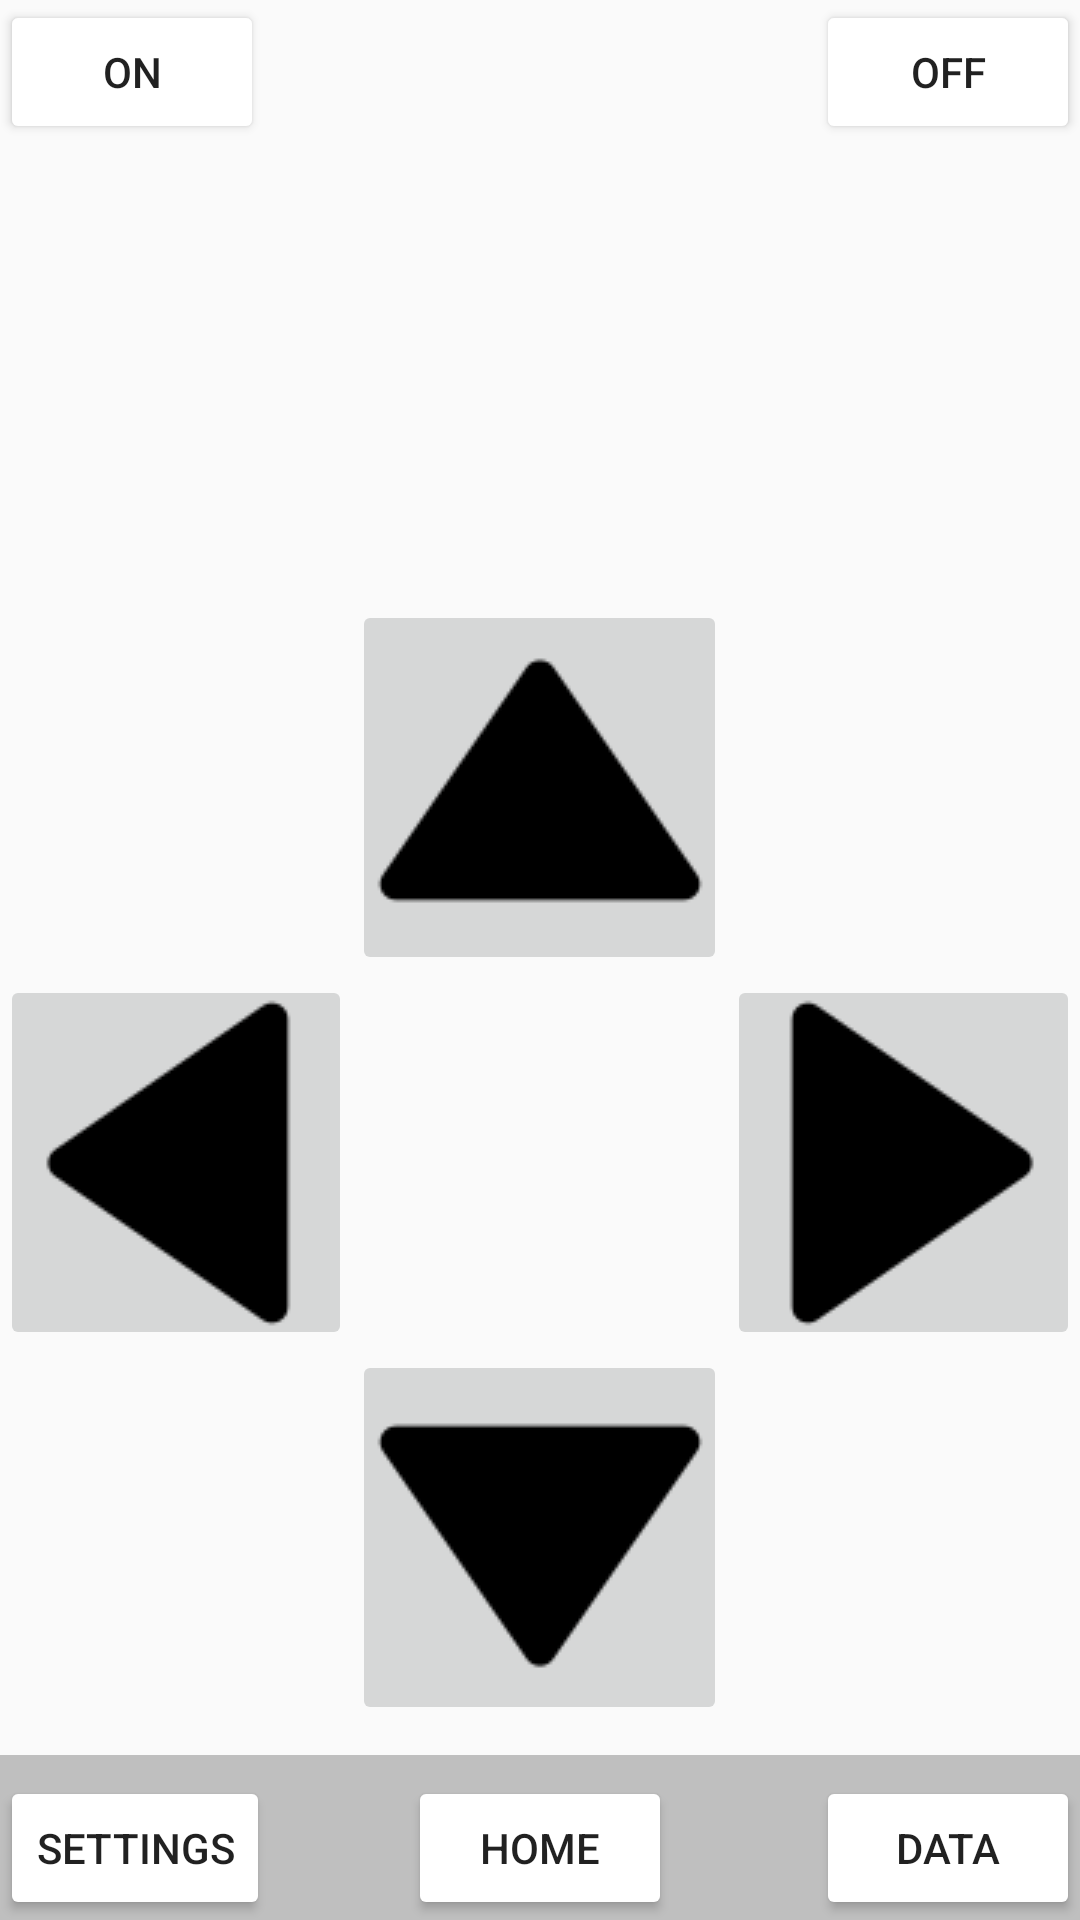

Point at icon controls on the screen. Image size 1080px×1920px, points as point (x, y).
down arrow: point (539, 1537)
left arrow: point (176, 1162)
right arrow: point (903, 1162)
up arrow: point (539, 787)
